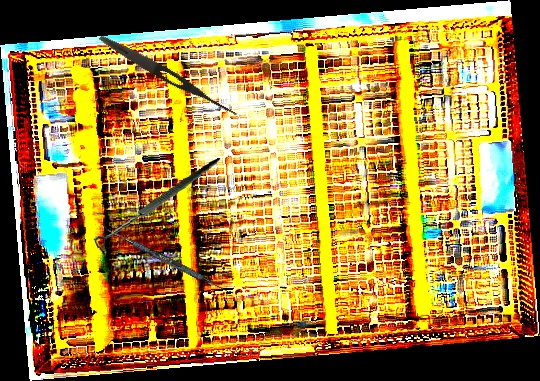Dressing Forceps: (96, 31, 242, 121)
Hook Surgical: (85, 158, 231, 256)
Spatula Surgical: (98, 223, 232, 295)
